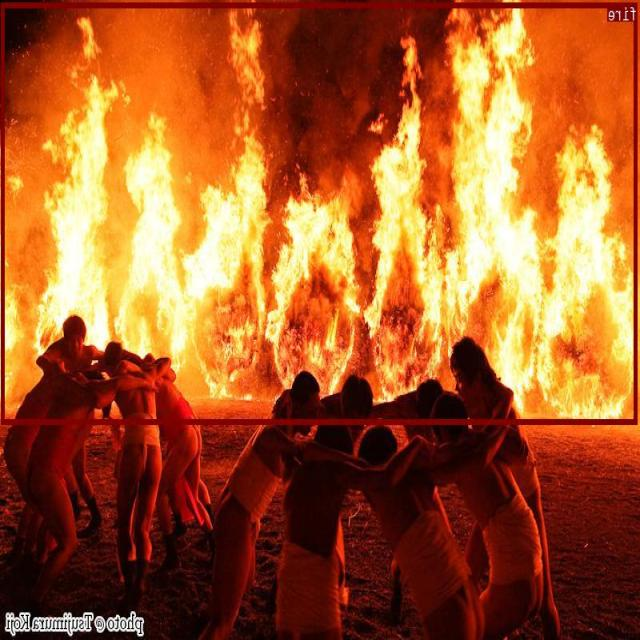fire: (2, 1, 638, 424)
